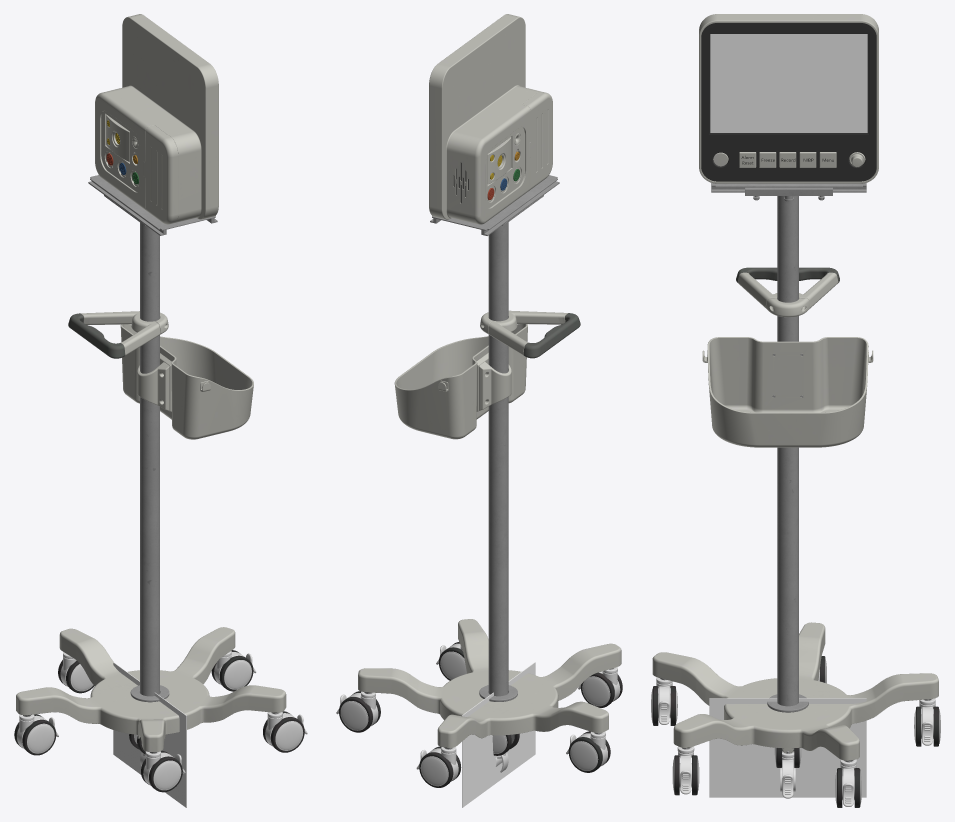
The model's file is patient-monitor.glb.
The picture shows the model from 3 angles, left to right: view 1: azimuth 30°, elevation 25°; view 2: azimuth 150°, elevation 25°; view 3: azimuth 270°, elevation 25°; orthographic projection. The views are drawn at different scales.
Visible parts, largest first — view 1: base_01_mesh_00, screen_01_mesh_00, tire_04_mesh_00, tire_02_mesh_00, tire_03_mesh_00, tire_05_mesh_00, tire_01_mesh_00; view 2: base_01_mesh_00, screen_01_mesh_00, tire_02_mesh_00, tire_01_mesh_00, tire_05_mesh_00, tire_03_mesh_00, tire_04_mesh_00; view 3: base_01_mesh_00, screen_01_mesh_00 (×2), tireBase_03_mesh_00 (×2), tireBase_04_mesh_00, tireBase_05_mesh_00, tire_01_mesh_00, tireBase_01_mesh_00, tire_05_mesh_00, tire_03_mesh_00, tire_04_mesh_00.
Part boxes in pixels (x1,y1,x2,y2): base_01_mesh_00: (16, 14, 286, 752); screen_01_mesh_00: (113, 662, 186, 807); tire_04_mesh_00: (263, 711, 304, 752); tire_02_mesh_00: (14, 714, 56, 755); tire_03_mesh_00: (141, 750, 182, 792); tire_05_mesh_00: (211, 650, 253, 691); tire_01_mesh_00: (58, 660, 94, 693); base_01_mesh_00: (358, 14, 621, 748); screen_01_mesh_00: (462, 662, 535, 807); tire_02_mesh_00: (568, 731, 610, 772); tire_01_mesh_00: (419, 746, 461, 787); tire_05_mesh_00: (339, 691, 380, 732); tire_03_mesh_00: (580, 672, 622, 707); tire_04_mesh_00: (439, 642, 466, 680); base_01_mesh_00: (652, 14, 938, 760); screen_01_mesh_00 (×2): (709, 34, 867, 797); tireBase_03_mesh_00 (×2): (656, 677, 795, 798); tireBase_04_mesh_00: (677, 746, 694, 794); tireBase_05_mesh_00: (840, 759, 856, 806); tire_01_mesh_00: (914, 706, 940, 746); tireBase_01_mesh_00: (919, 698, 935, 745); tire_05_mesh_00: (835, 768, 861, 807); tire_03_mesh_00: (651, 686, 677, 725); tire_04_mesh_00: (672, 755, 699, 795).
Bounding box in the file's own units: 0.5766 × 1.6 × 0.5299.
50 materials, 39 textured.
